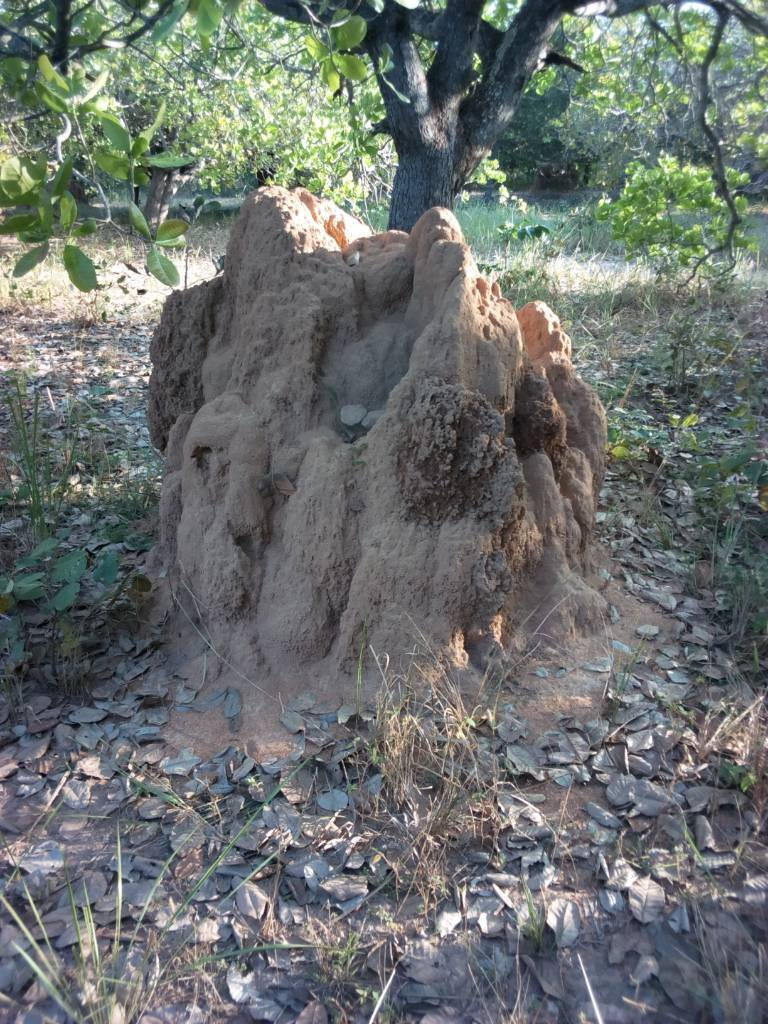Termites: (186, 183, 608, 724)
